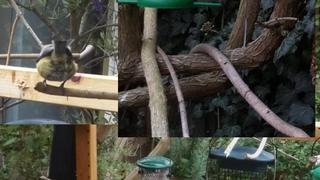blue tit: (36, 40, 78, 96)
